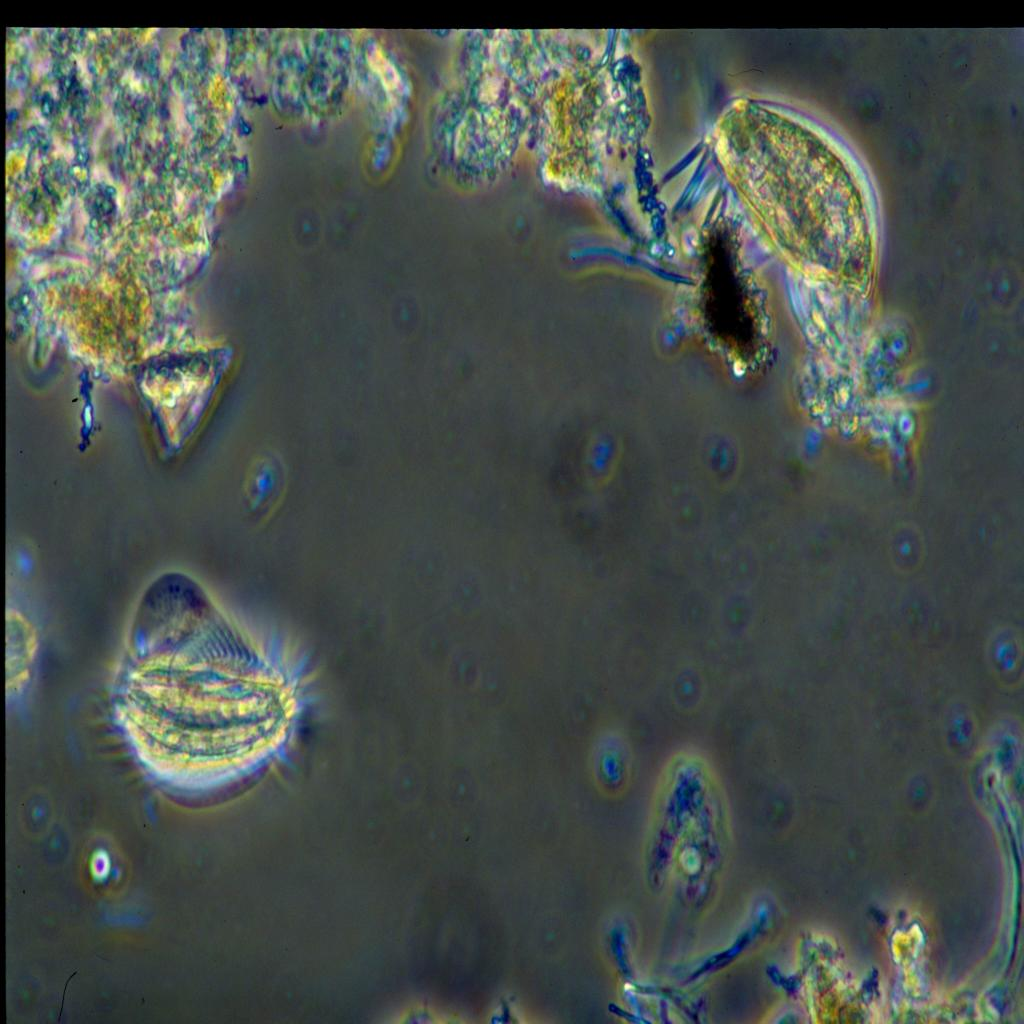Euplotes: (102, 625, 312, 815)
